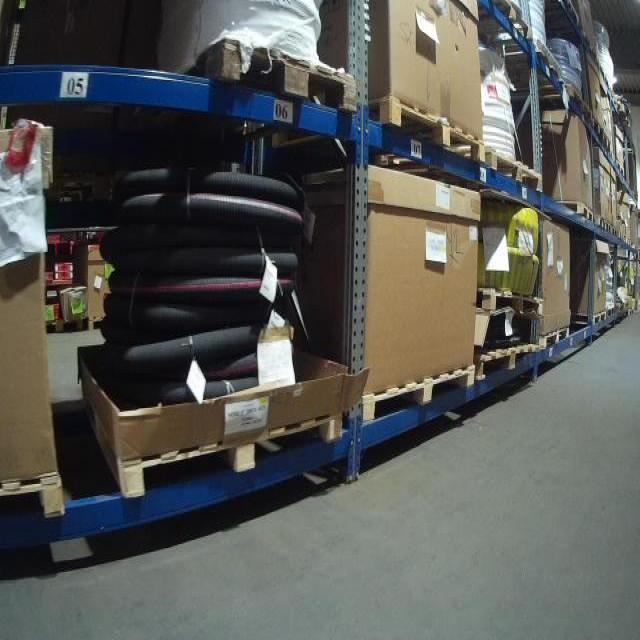pallet: (83, 405, 348, 502), (183, 37, 360, 114), (364, 94, 487, 168), (362, 366, 473, 432), (0, 466, 68, 530), (482, 141, 544, 194), (475, 341, 540, 387), (481, 0, 534, 46), (475, 284, 543, 315), (554, 198, 595, 224), (540, 326, 571, 349), (569, 309, 606, 326), (42, 319, 86, 331)
small_load_carrier: (53, 269, 75, 282), (48, 302, 62, 320), (51, 260, 75, 269), (43, 274, 54, 285)
